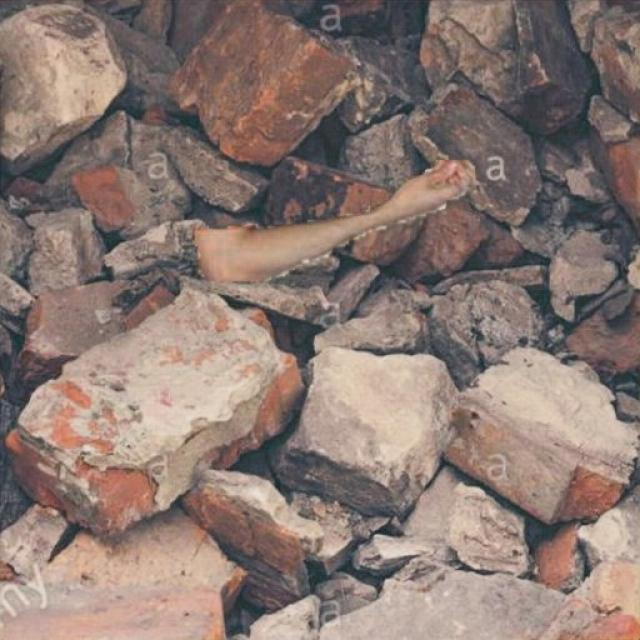Person in Rubble: (192, 160, 478, 280)
